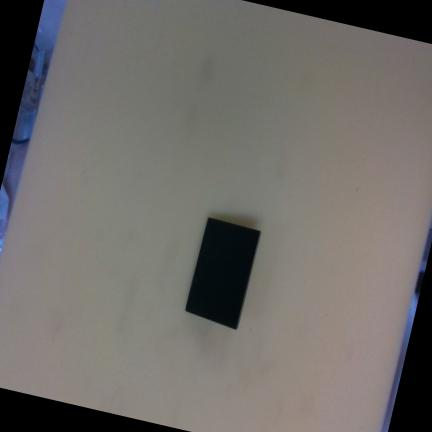tile: (183, 215, 261, 330)
